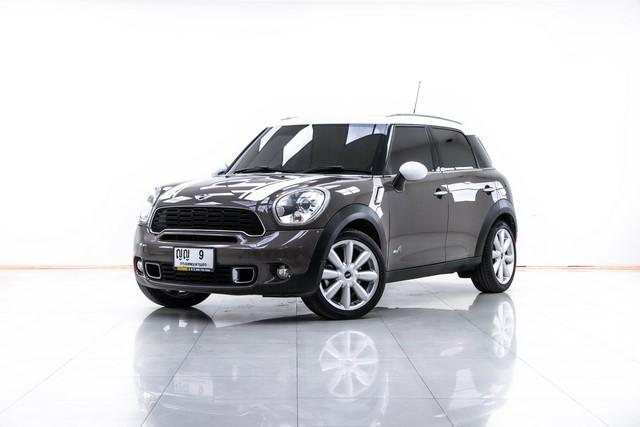license-plate: (168, 240, 219, 278)
